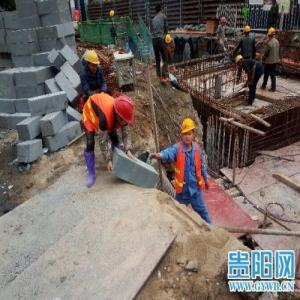none: (155, 4, 164, 17)
red: (113, 94, 135, 132), (221, 16, 228, 28)
yellow: (181, 116, 197, 148), (85, 51, 99, 74), (166, 34, 173, 47)
